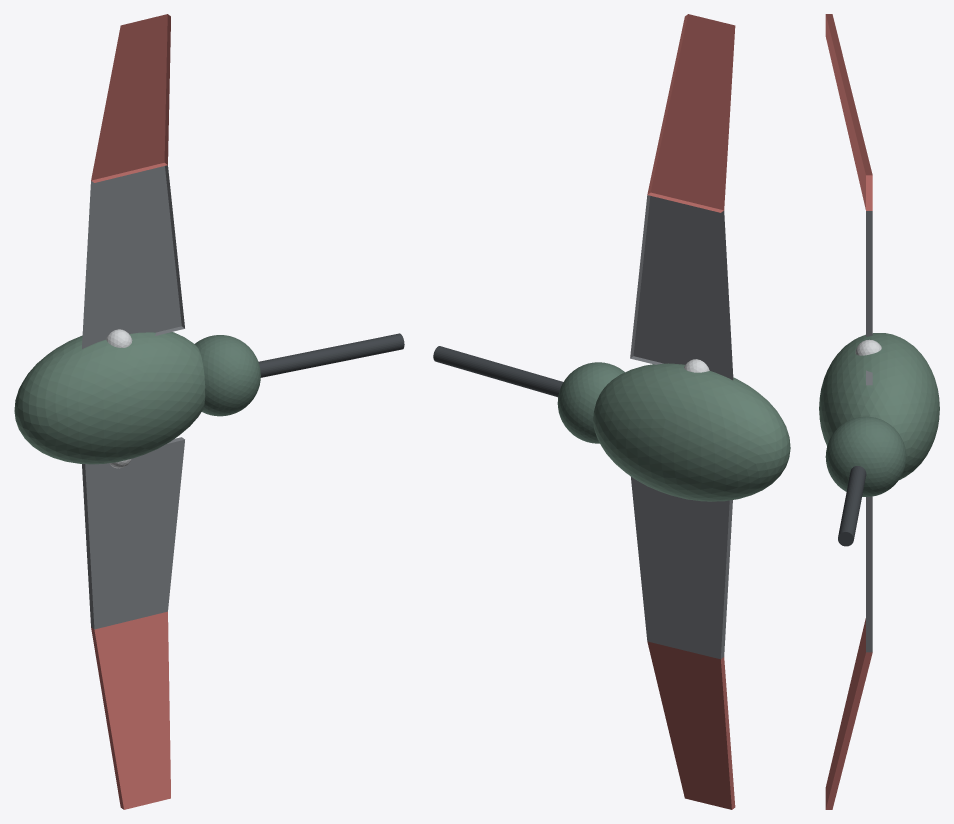
Rendered from hummingbird-model-geometry.glb.
The picture shows the model from 3 angles, left to right: view 1: azimuth 30°, elevation 25°; view 2: azimuth 150°, elevation 25°; view 3: azimuth 270°, elevation 25°; orthographic projection.
Parts seen in each view (by area): view 1: body, rigid wing -1, rigid wing 1, flexible wing -1, flexible wing 1, head, beak; view 2: body, rigid wing 1, rigid wing -1, flexible wing 1, flexible wing -1, head, beak; view 3: body, head, flexible wing 1, flexible wing -1, beak, rigid wing -1, rigid wing 1, shoulder 1.
Part boxes in pixels (x1=…): body: x1=14, y1=332, x2=205, y2=464; rigid wing -1: x1=82, y1=437, x2=184, y2=629; rigid wing 1: x1=82, y1=165, x2=184, y2=348; flexible wing -1: x1=91, y1=611, x2=170, y2=809; flexible wing 1: x1=91, y1=14, x2=170, y2=182; head: x1=194, y1=335, x2=260, y2=416; beak: x1=258, y1=333, x2=404, y2=377; body: x1=593, y1=363, x2=790, y2=501; rigid wing 1: x1=630, y1=195, x2=733, y2=380; rigid wing -1: x1=630, y1=476, x2=732, y2=659; flexible wing 1: x1=647, y1=14, x2=735, y2=212; flexible wing -1: x1=647, y1=641, x2=735, y2=809; head: x1=557, y1=362, x2=624, y2=443; beak: x1=433, y1=346, x2=563, y2=397; body: x1=819, y1=333, x2=939, y2=479; head: x1=825, y1=416, x2=906, y2=496; flexible wing 1: x1=825, y1=14, x2=872, y2=210; flexible wing -1: x1=825, y1=618, x2=872, y2=809; beak: x1=838, y1=466, x2=866, y2=546; rigid wing -1: x1=866, y1=496, x2=872, y2=652; rigid wing 1: x1=866, y1=211, x2=872, y2=385; shoulder 1: x1=855, y1=339, x2=881, y2=355.
Size of the model in its own units: 62.1 by 127 by 18.
